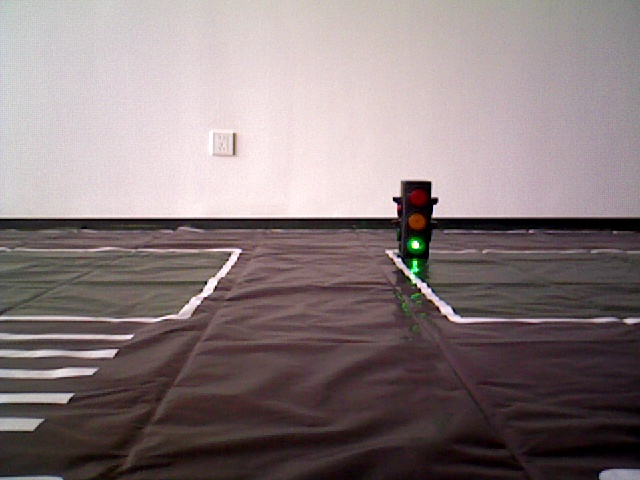green: (398, 182, 429, 250)
